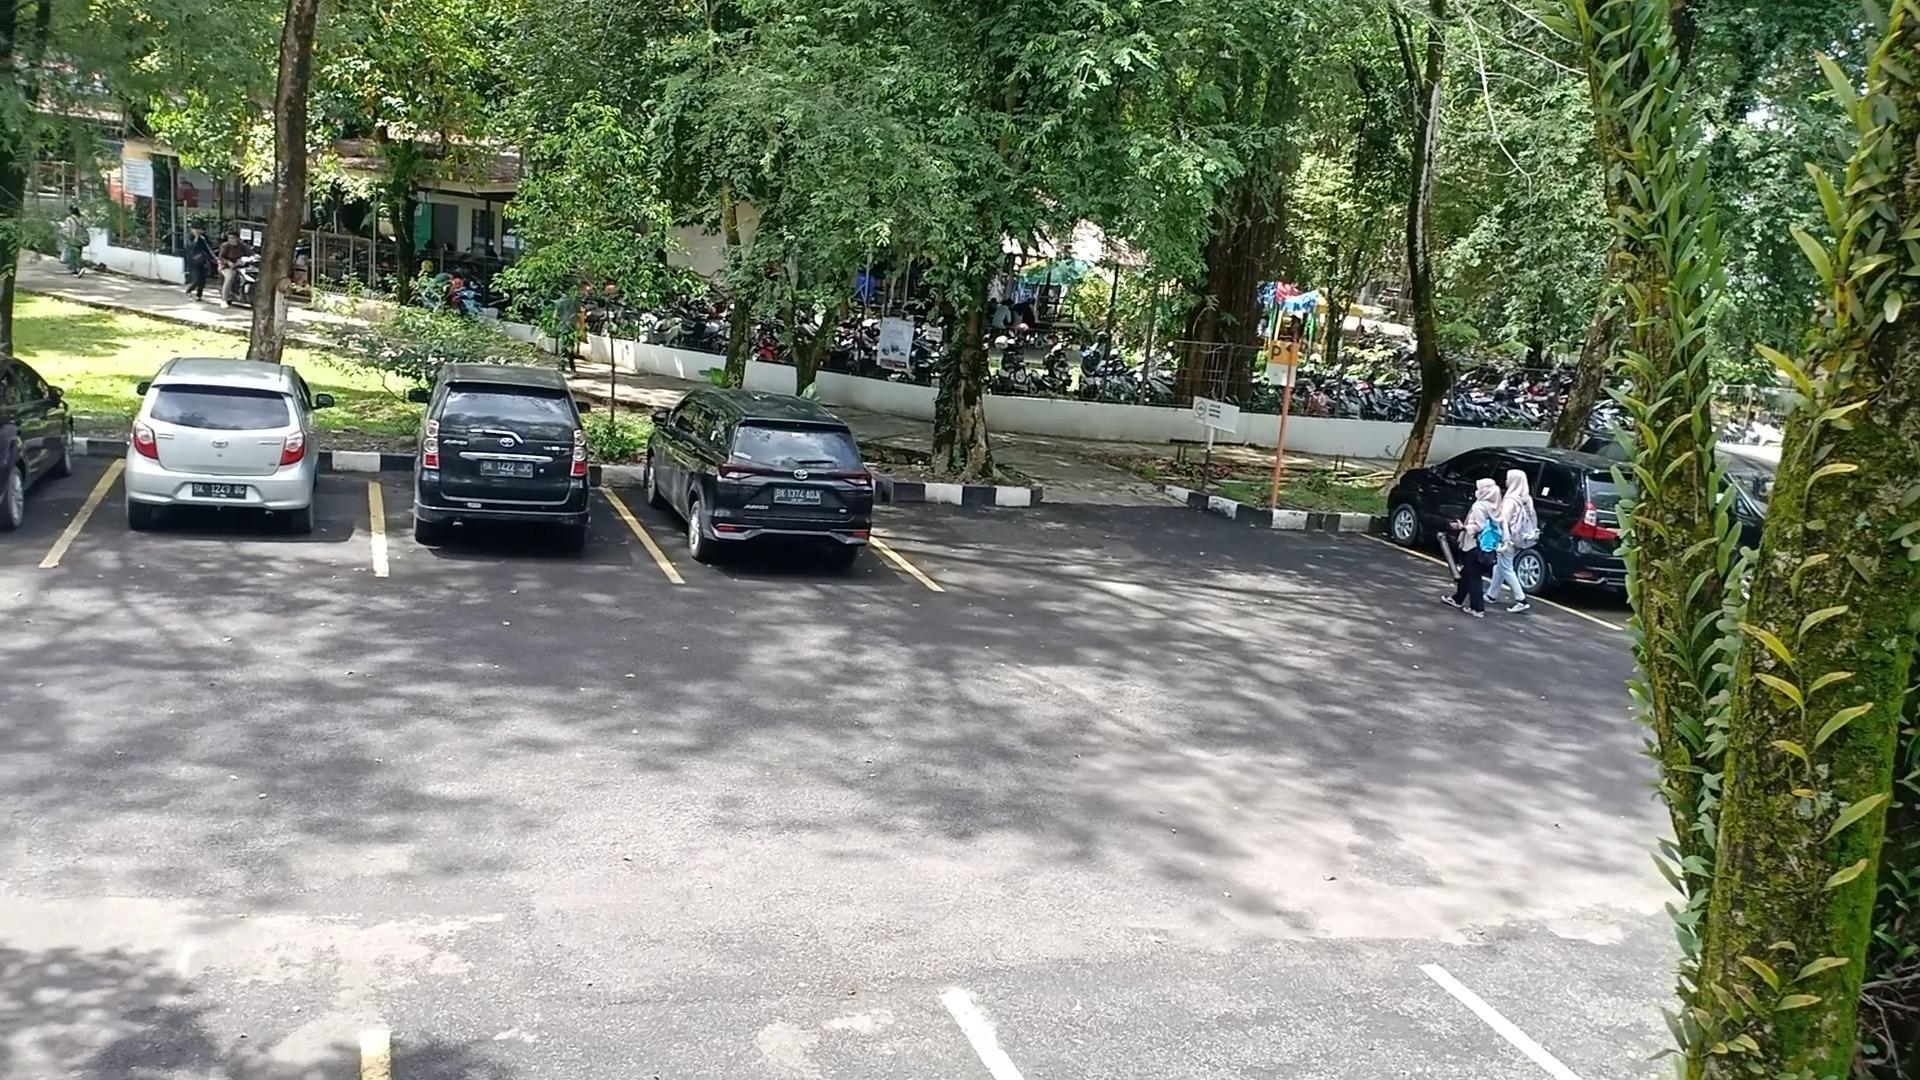occupied: (84, 402, 382, 574), (634, 434, 905, 588), (376, 441, 645, 573)
